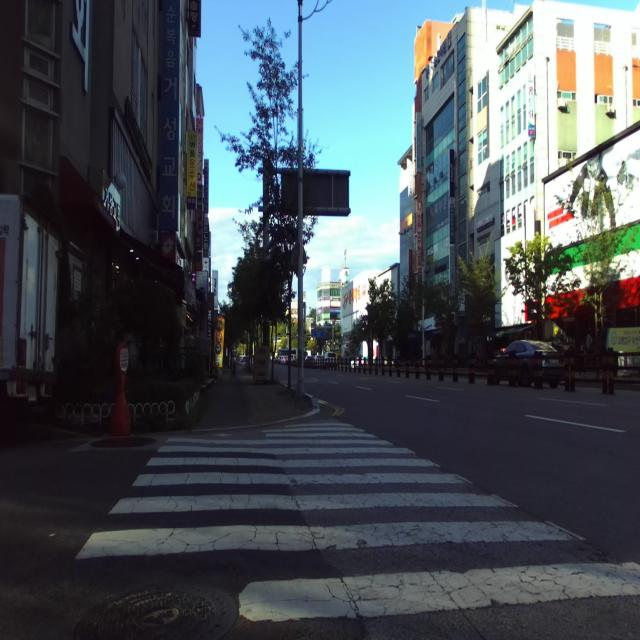횡단보도: (75, 422, 639, 622)
